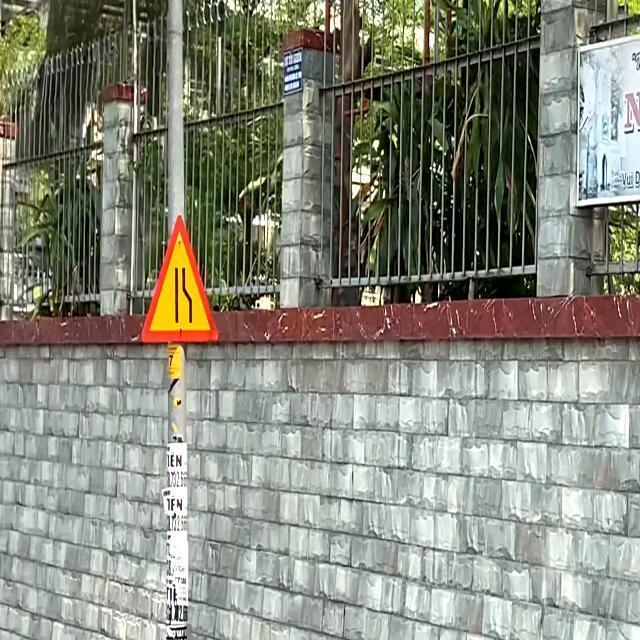203-duong-bi-hep: (136, 216, 220, 344)
